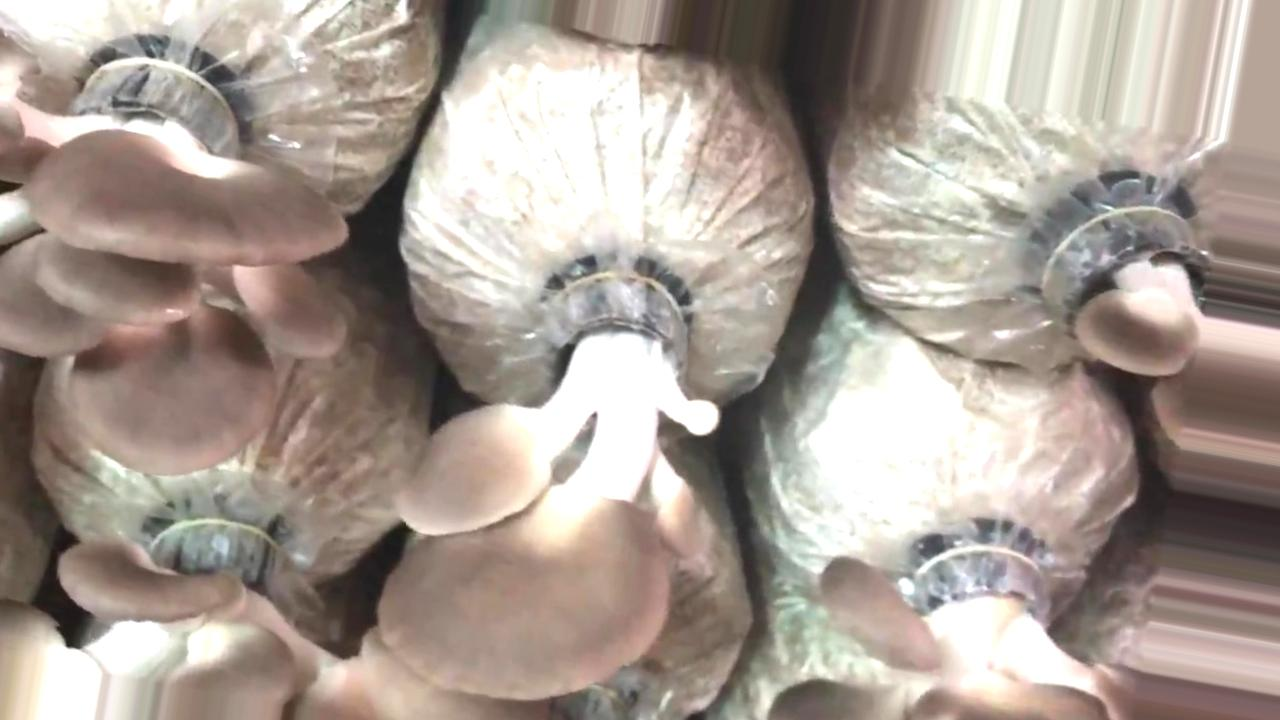nam: (1, 45, 352, 479), (374, 280, 727, 705), (17, 521, 550, 720), (761, 555, 1279, 720), (1067, 202, 1280, 466)
